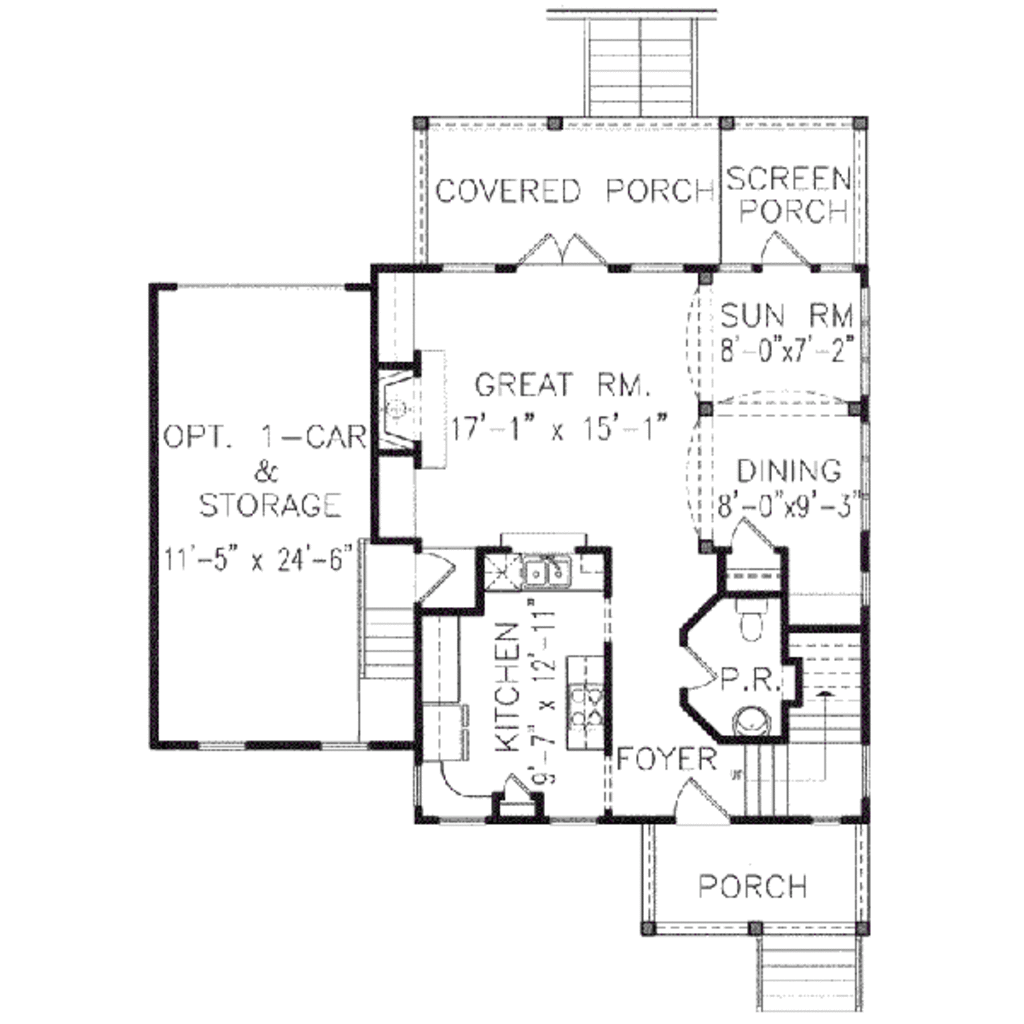door: (523, 229, 605, 279), (670, 780, 739, 822), (416, 544, 463, 603), (758, 230, 821, 271), (725, 514, 776, 553)
kitchen_bar: (561, 649, 604, 756)
stairs: (781, 633, 865, 817), (584, 7, 702, 122), (756, 922, 856, 1016), (358, 539, 421, 681)
windows: (858, 416, 876, 533), (860, 286, 873, 394), (189, 736, 249, 757), (313, 736, 375, 756)
